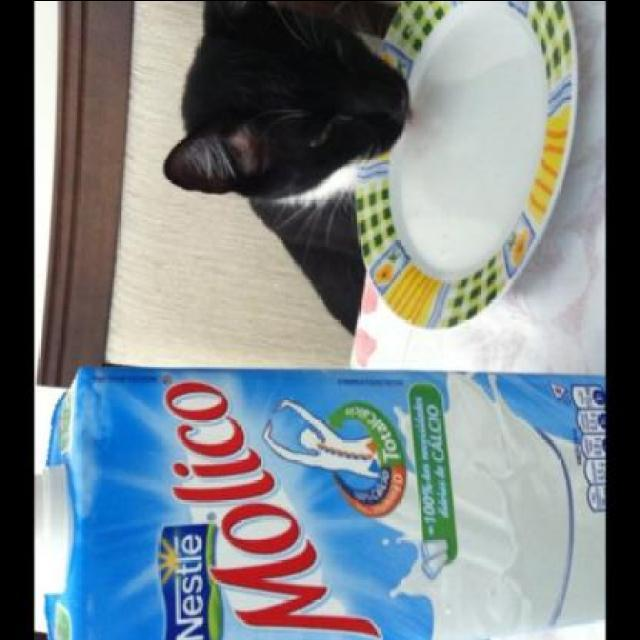Milk: (369, 366, 603, 640), (402, 12, 548, 270)
